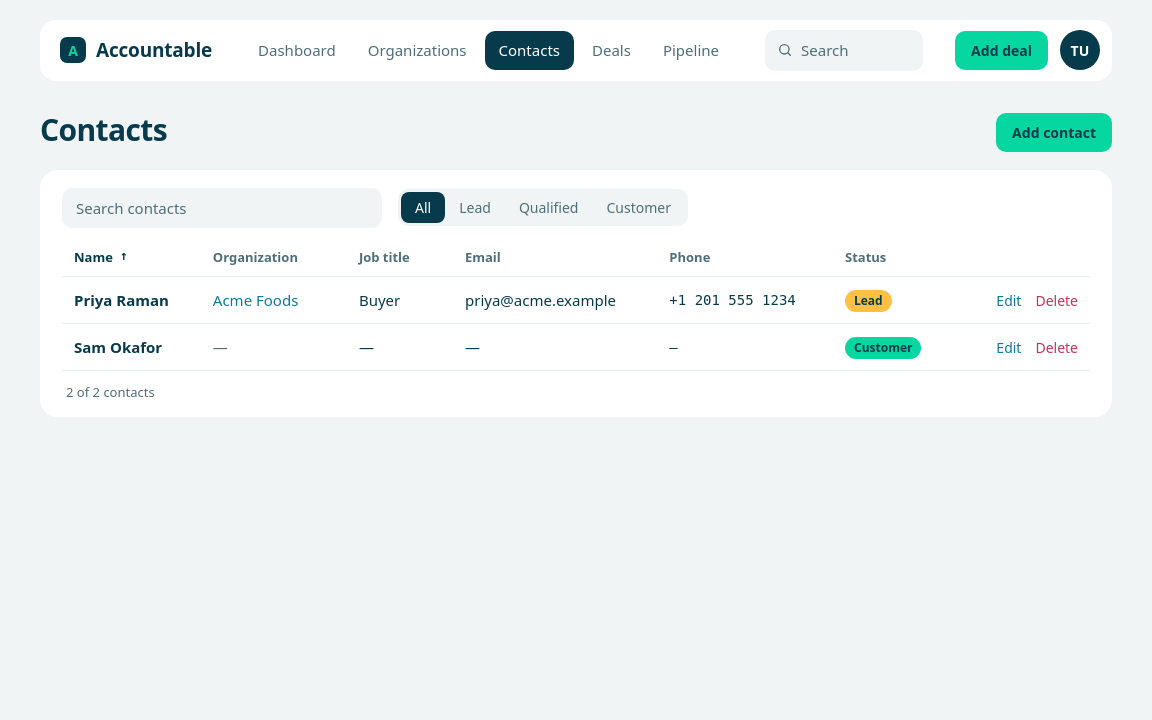
it: editing a contact starts from its details
The width and height of the screenshot is (1152, 720).
Expected: the link "Priya Raman" is shown, x1=74 y1=290 x2=169 y2=310
What coordinates should you click on to do the following:
click the button with aria-label "Edit Priya Raman"
I would click on:
 (1009, 300)
Its box is x1=996 y1=290 x2=1022 y2=311.
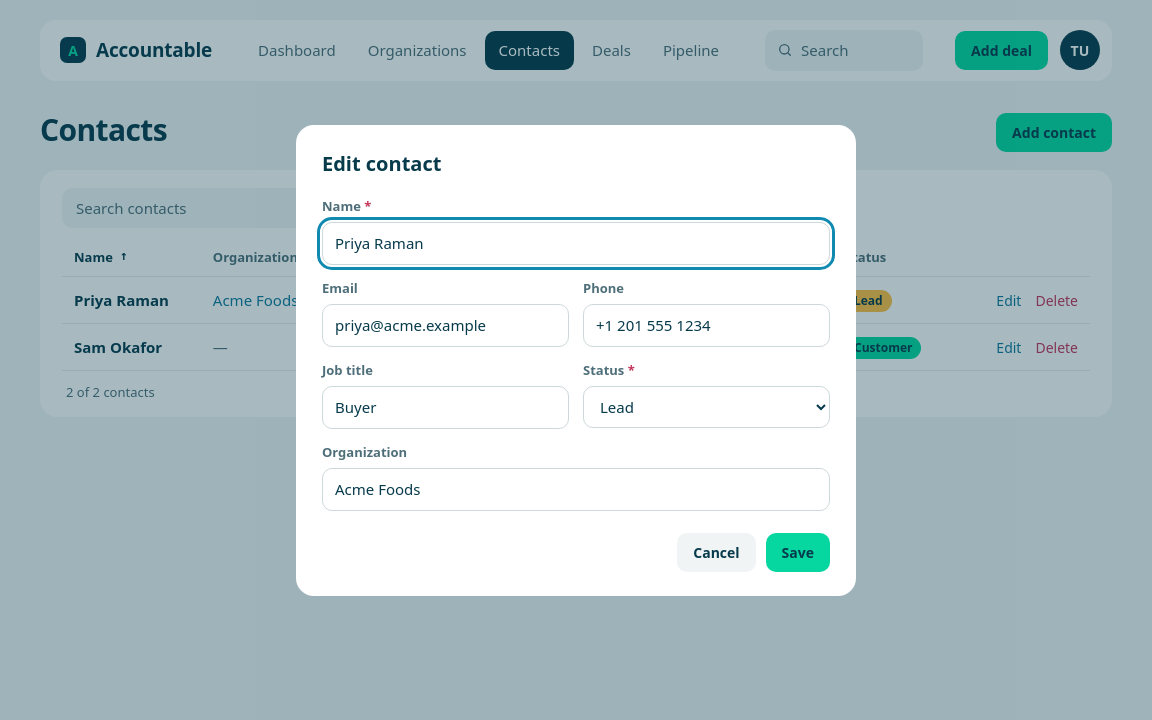
Expected: the field labelled "Email" holds "priya@acme.example", x1=322 y1=304 x2=569 y2=346
Expected: the field labelled "Job title" holds "Buyer", x1=322 y1=386 x2=569 y2=428
